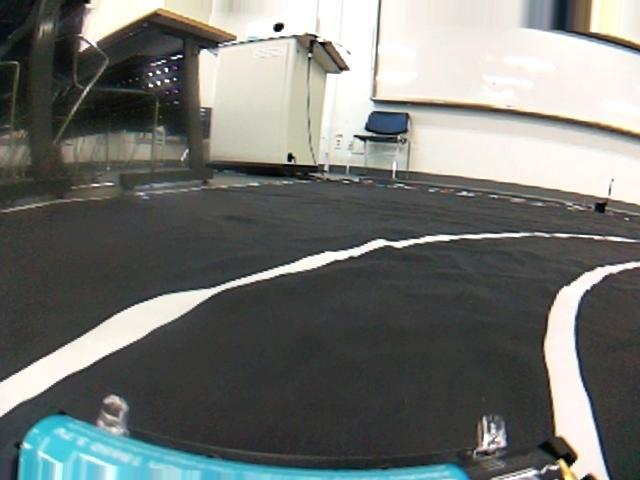straight: (6, 308, 640, 479)
